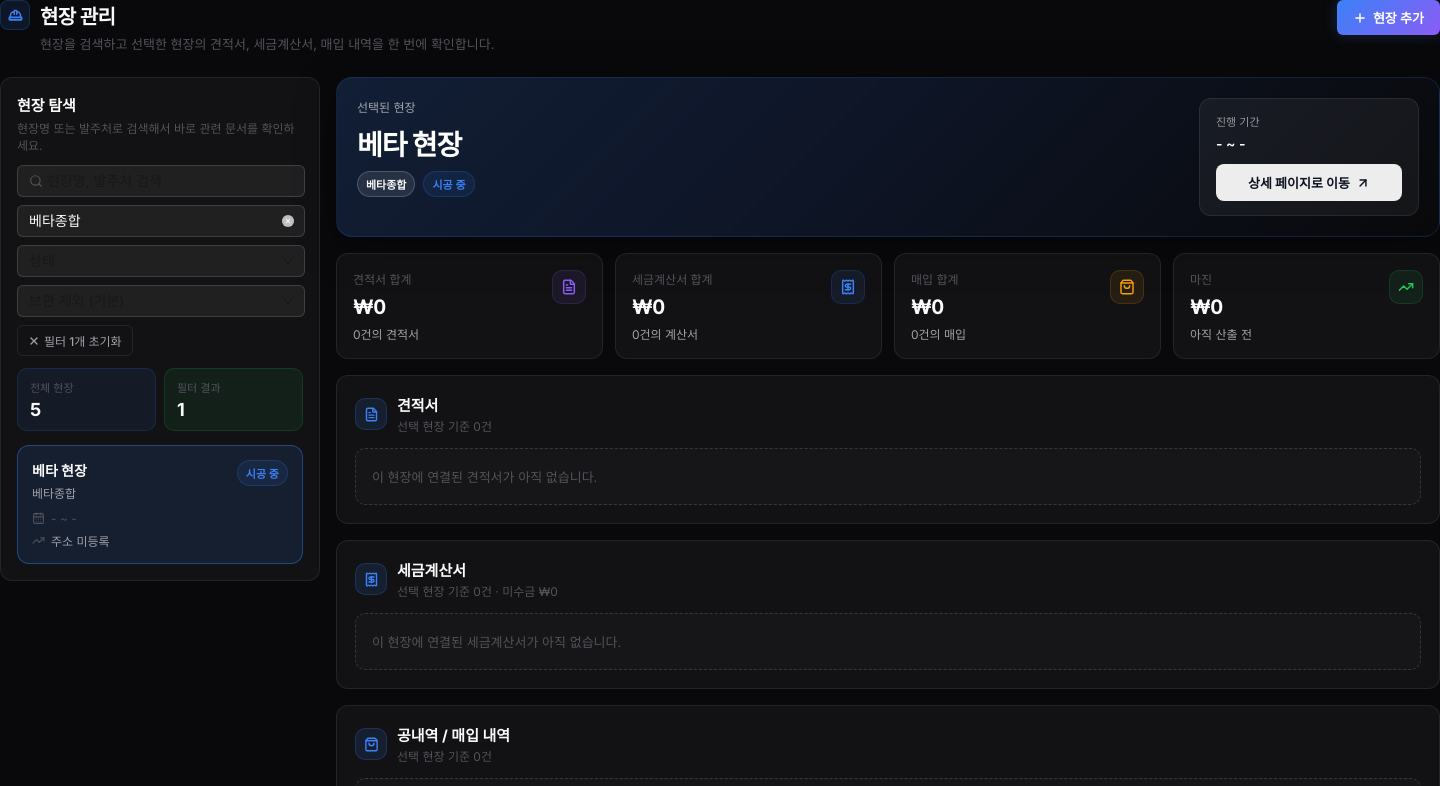
SiteListPage client filter › 초기화 버튼은 거래처 필터도 함께 지운다
The image size is (1440, 786).
Click the button "필터 1개 초기화" at (75, 340), box x1=17 y1=325 x2=133 y2=356
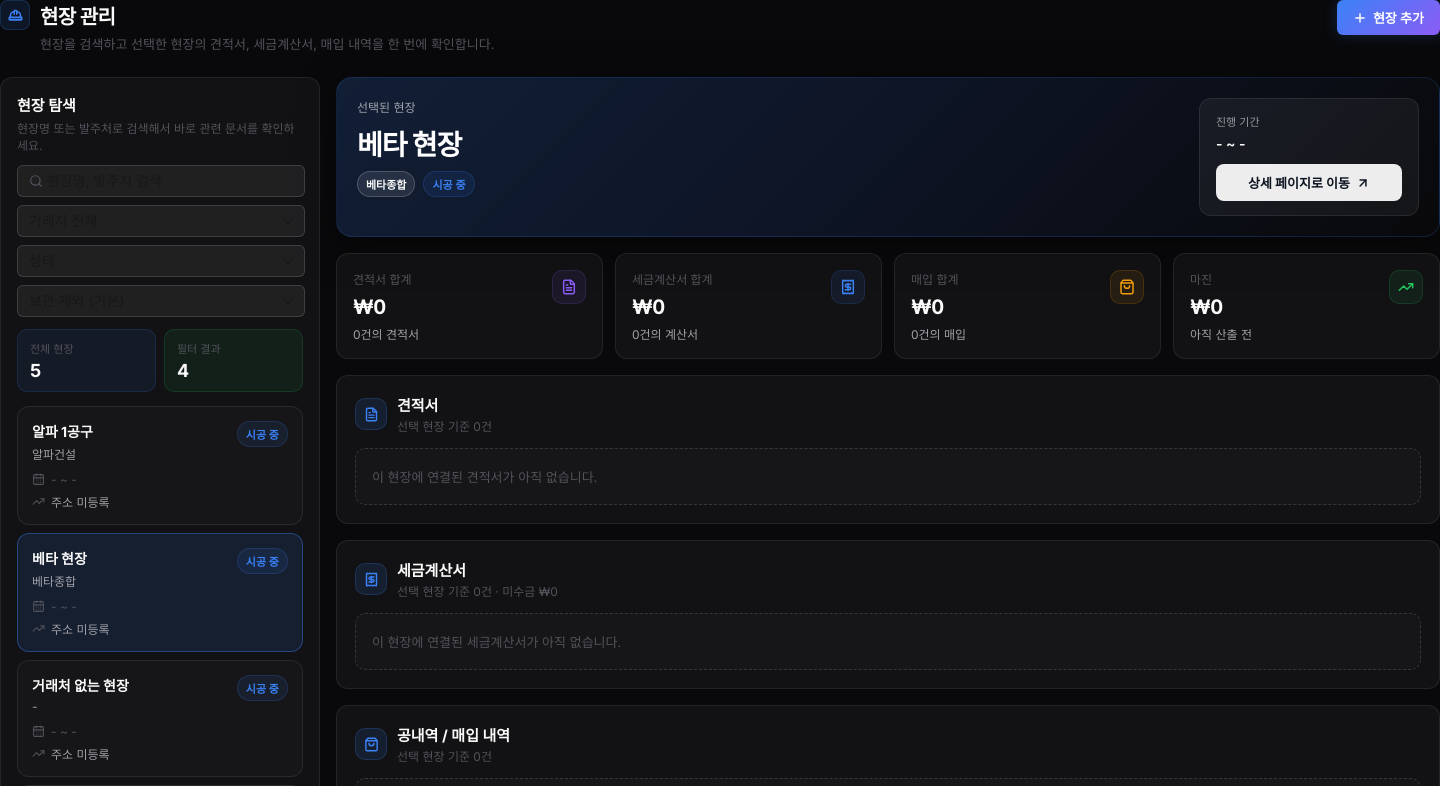
Now the text "알파 1공구" is shown, box x1=32 y1=421 x2=93 y2=441
